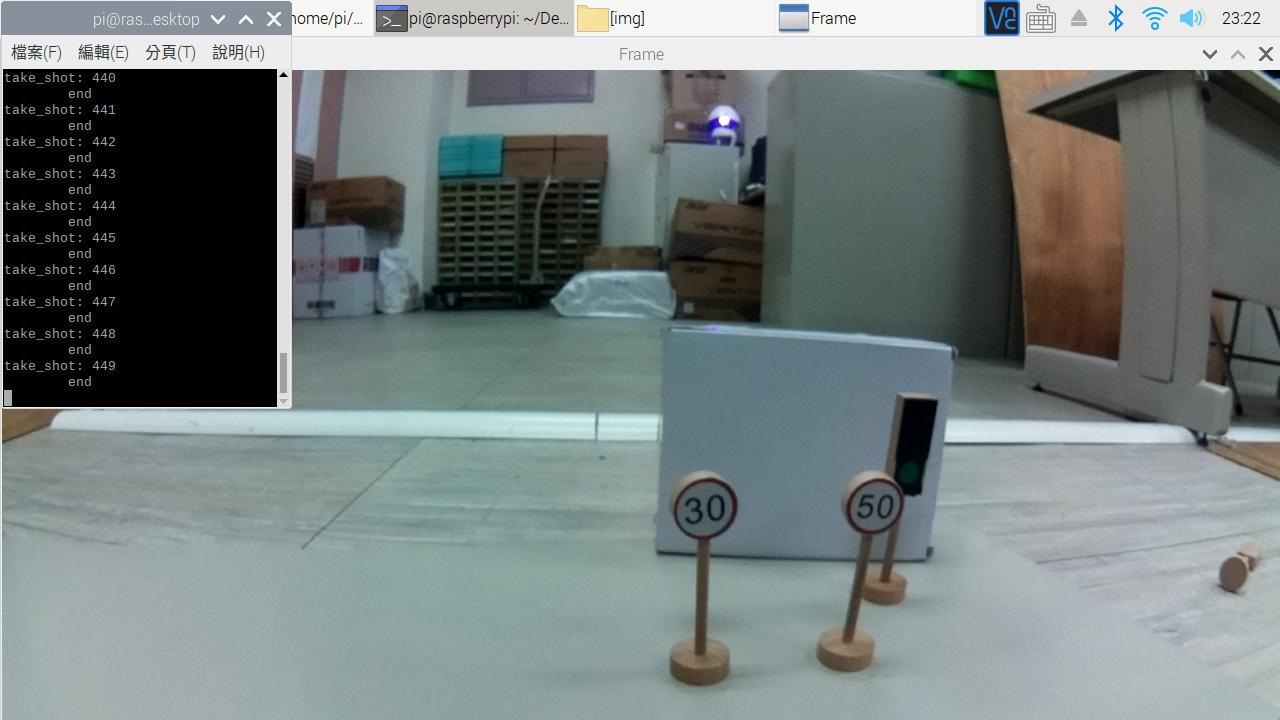Green: (885, 385, 940, 498)
Speed30: (657, 465, 747, 557)
Speed50: (833, 474, 908, 546)
